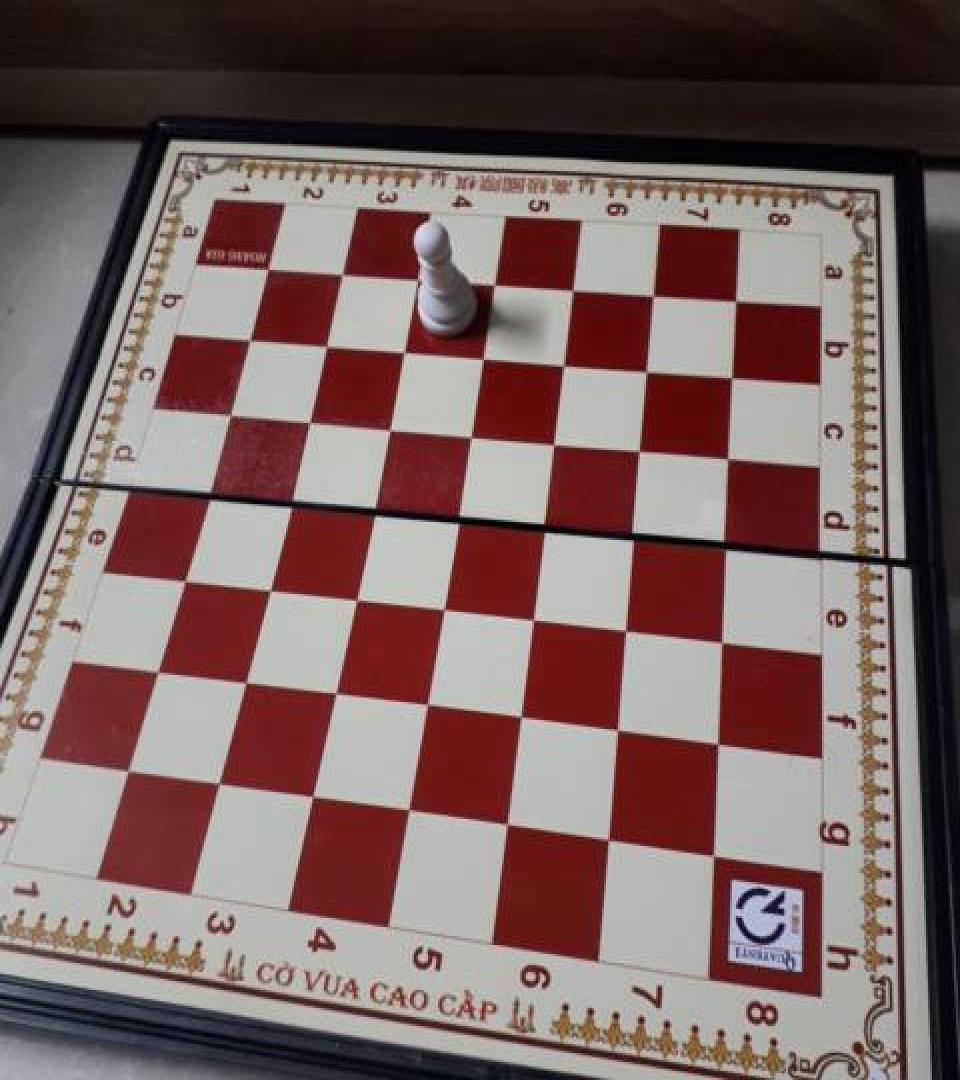xcorner: (322, 255, 356, 294), (711, 436, 745, 475), (607, 606, 641, 645), (718, 282, 752, 320), (635, 276, 669, 314), (554, 270, 588, 308), (475, 266, 509, 304), (397, 260, 431, 298), (248, 251, 282, 289), (715, 356, 749, 394), (629, 349, 663, 387), (545, 343, 579, 381), (463, 336, 497, 374), (383, 331, 417, 369), (305, 325, 339, 363), (229, 320, 263, 358), (622, 429, 656, 467), (535, 421, 569, 459), (450, 414, 484, 452), (368, 406, 402, 444), (287, 400, 321, 438), (208, 393, 242, 431), (708, 523, 742, 561), (615, 514, 649, 552), (525, 505, 559, 543), (437, 496, 471, 534), (351, 488, 385, 526), (268, 480, 302, 518), (186, 472, 220, 510), (704, 618, 738, 656), (514, 596, 548, 634), (422, 586, 456, 624), (334, 576, 368, 614), (247, 566, 281, 604), (163, 557, 197, 595), (699, 720, 733, 758), (599, 706, 633, 744), (502, 694, 536, 732), (407, 683, 441, 721), (314, 670, 348, 708), (225, 660, 259, 698), (137, 648, 171, 686), (695, 832, 729, 870), (590, 817, 624, 855), (488, 802, 522, 840), (390, 788, 424, 826), (294, 774, 328, 812), (201, 760, 235, 798), (110, 747, 144, 785)
